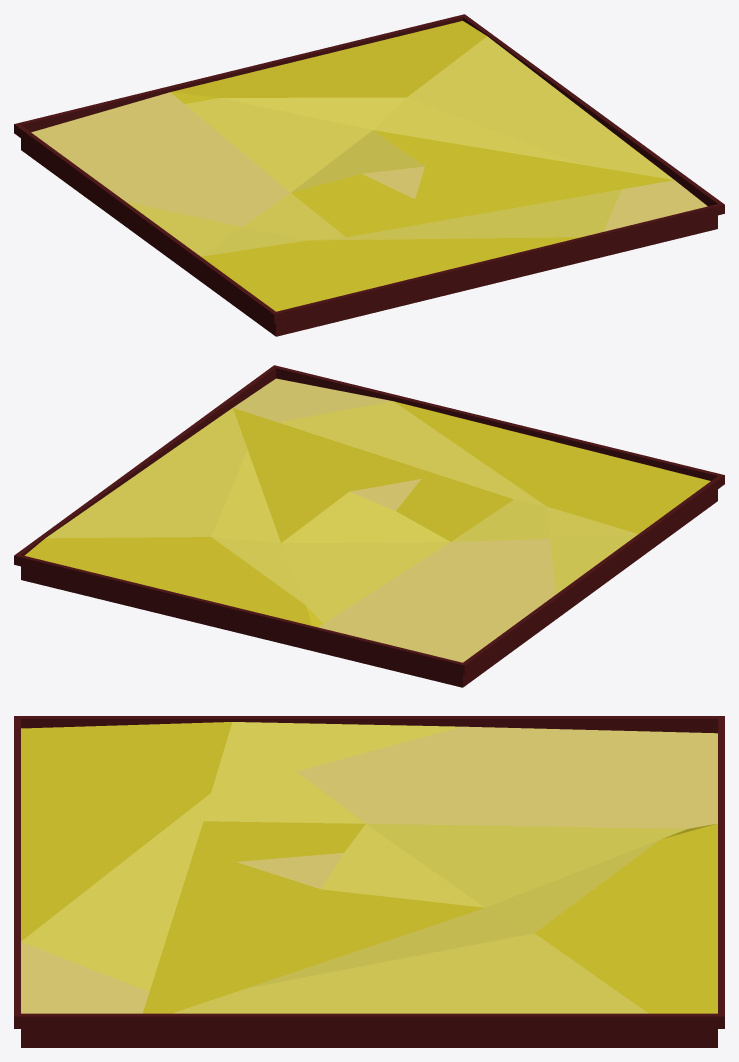
File: gigant_sandbox.glb
3 views of the same model, one above another, from view 1: azimuth 30°, elevation 25°; view 2: azimuth 150°, elevation 25°; view 3: azimuth 270°, elevation 25° (orthographic). The views are drawn at different scales.
Visible parts, largest first — view 1: Cube; view 2: Cube; view 3: Cube.
Part boxes in pixels (<box>): Cube: <box>14,14,724,336</box>; Cube: <box>14,365,724,687</box>; Cube: <box>14,716,724,1047</box>.
Size of the model in its own units: 36.72 by 2.08 by 36.72.
